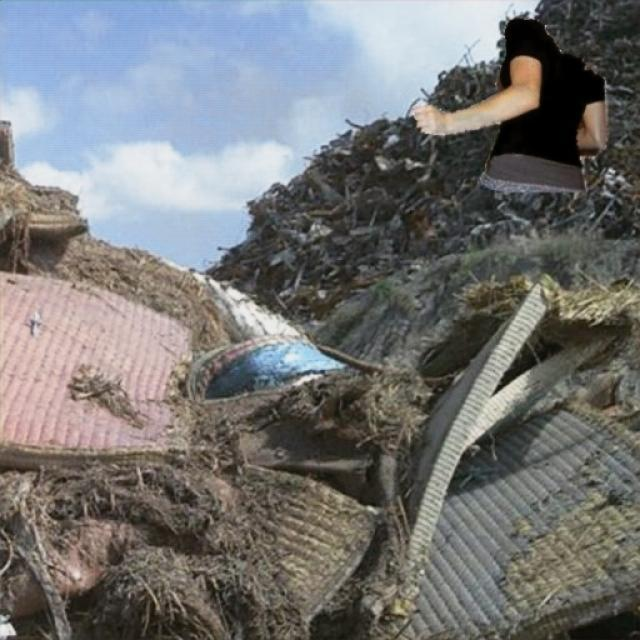Person in Rubble: (412, 18, 608, 192)
